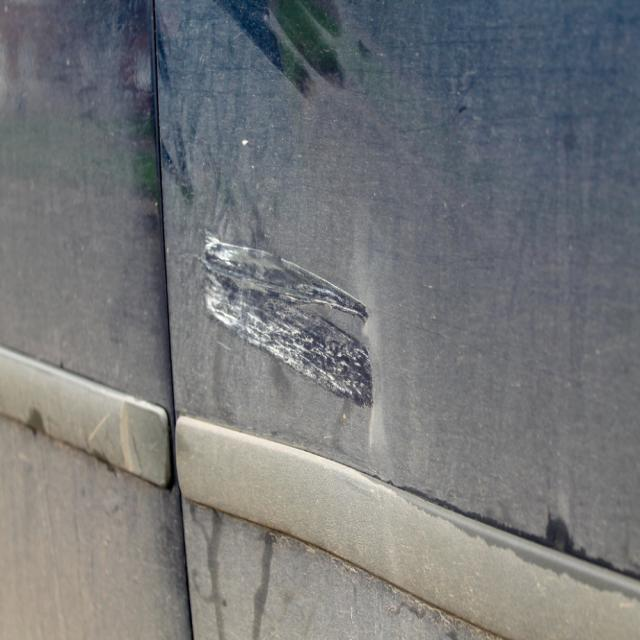scratch: (202, 228, 374, 416)
